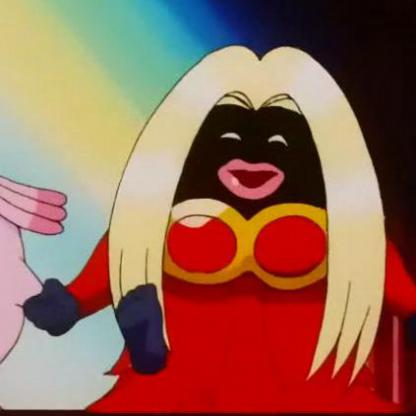Jynx: (14, 17, 416, 416)
